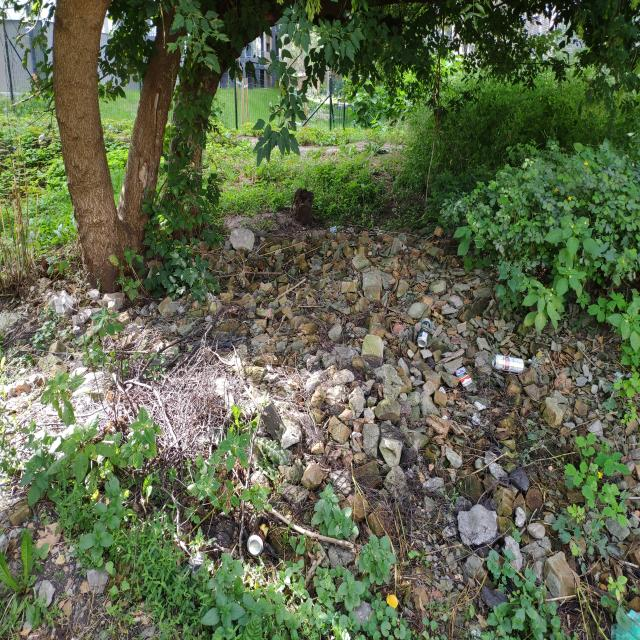lixo domiciliar: (610, 608, 640, 640), (494, 352, 526, 374), (246, 534, 265, 556), (191, 550, 209, 570), (456, 366, 472, 388), (472, 414, 484, 425), (473, 401, 486, 411), (439, 386, 447, 394), (440, 414, 448, 420)
